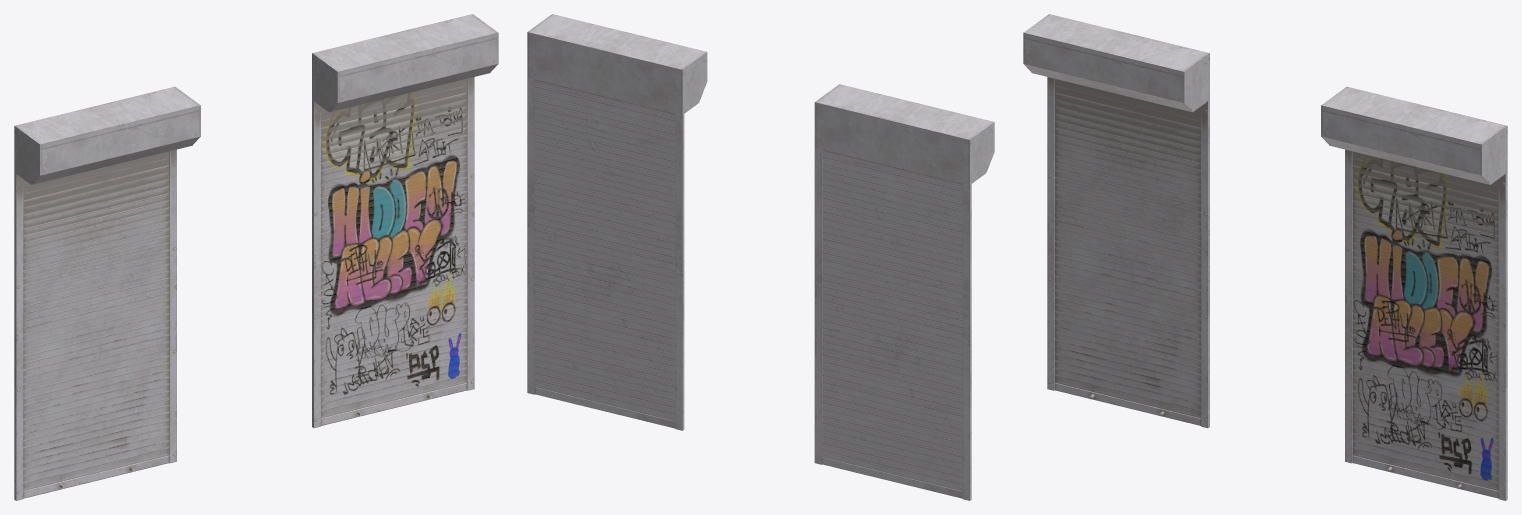
The model's file is rollershutter_door_1k.glb.
3 views of the same model, side by side, from view 1: azimuth 30°, elevation 25°; view 2: azimuth 150°, elevation 25°; view 3: azimuth 330°, elevation 25° (orthographic). The views are drawn at different scales.
Visible parts, largest first — view 1: rollershutter_door, rollershutter_door_graffiti; view 2: rollershutter_door, rollershutter_door_graffiti; view 3: rollershutter_door_graffiti, rollershutter_door.
Boxes of the visible parts, box(x1,y1,x2,y2) form: rollershutter_door: box(14, 86, 200, 500); rollershutter_door_graffiti: box(312, 14, 498, 428); rollershutter_door: box(814, 84, 994, 500); rollershutter_door_graffiti: box(527, 14, 707, 430); rollershutter_door_graffiti: box(1321, 86, 1507, 500); rollershutter_door: box(1023, 14, 1209, 428).
Bounding box in the file's own units: 3.08 × 2.4 × 0.3.
2 materials, 2 textured.
